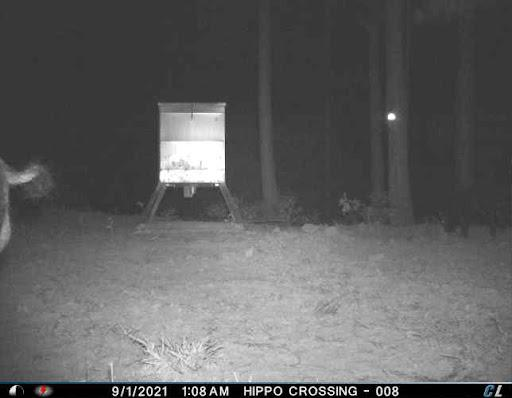Hog: (427, 173, 506, 246)
